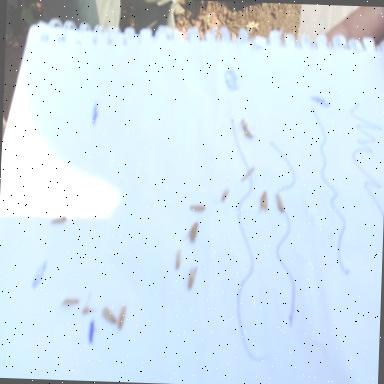pbw: (100, 305, 116, 325), (240, 118, 254, 138), (187, 266, 198, 288), (116, 305, 126, 328), (188, 221, 198, 243), (274, 192, 284, 212), (174, 248, 182, 268), (60, 298, 78, 306), (260, 190, 268, 208), (189, 203, 205, 211)
